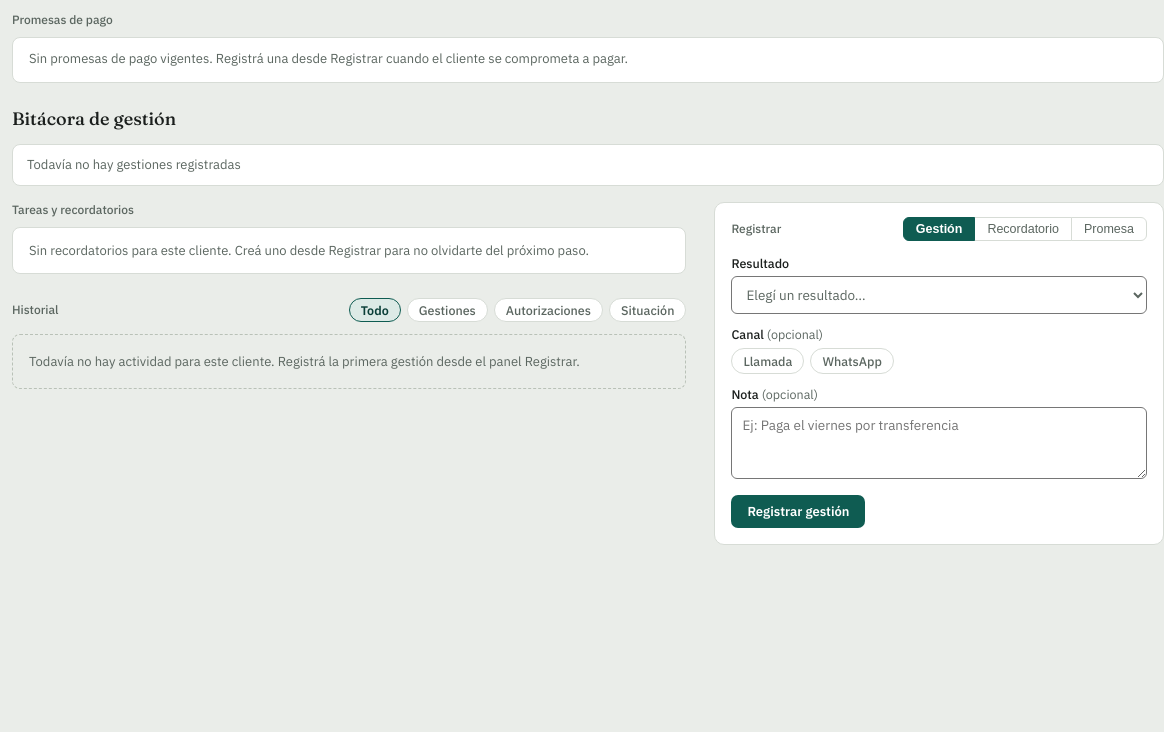
Promesas de pago en la pestaña Actividad › habilitada › registra la promesa, confirma con 'Promesa registrada.', limpia el formulario y actualiza el bloque y la bitácora
Click the button "Promesa" at point(1109, 228), box [1071,216,1147,240]
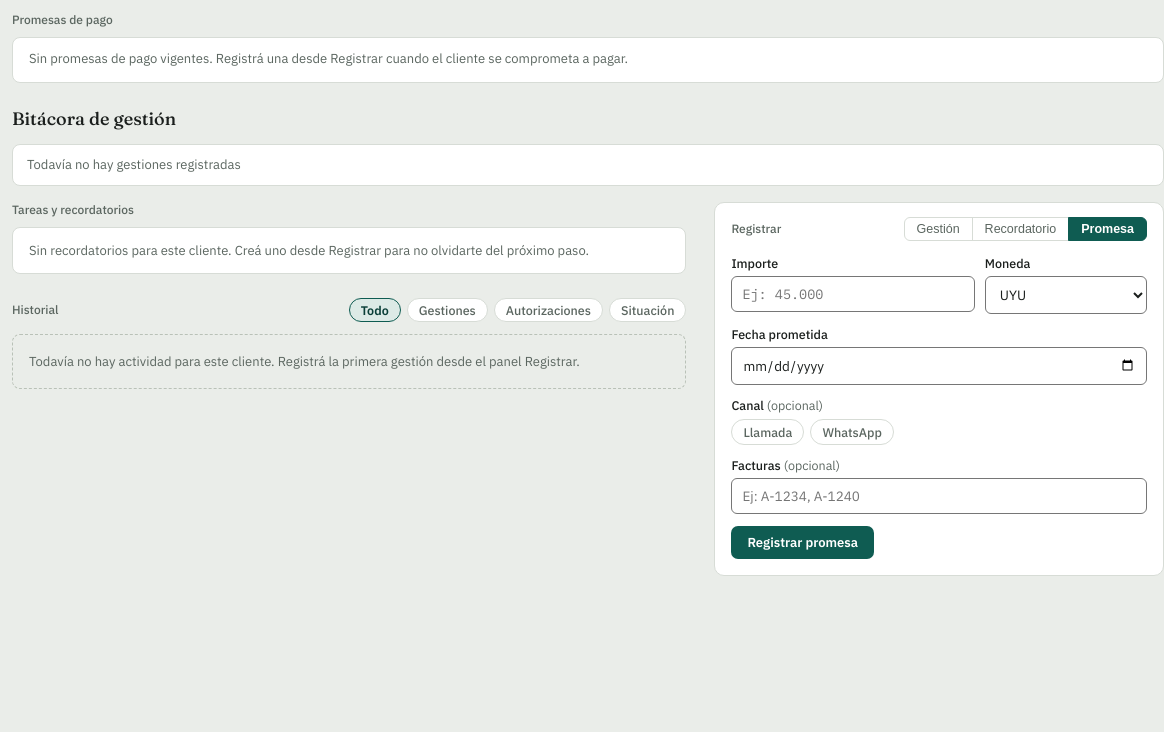
Type "2026-10-02" into the date field labelled "Fecha prometida" at point(939, 366), box [731,346,1147,384]
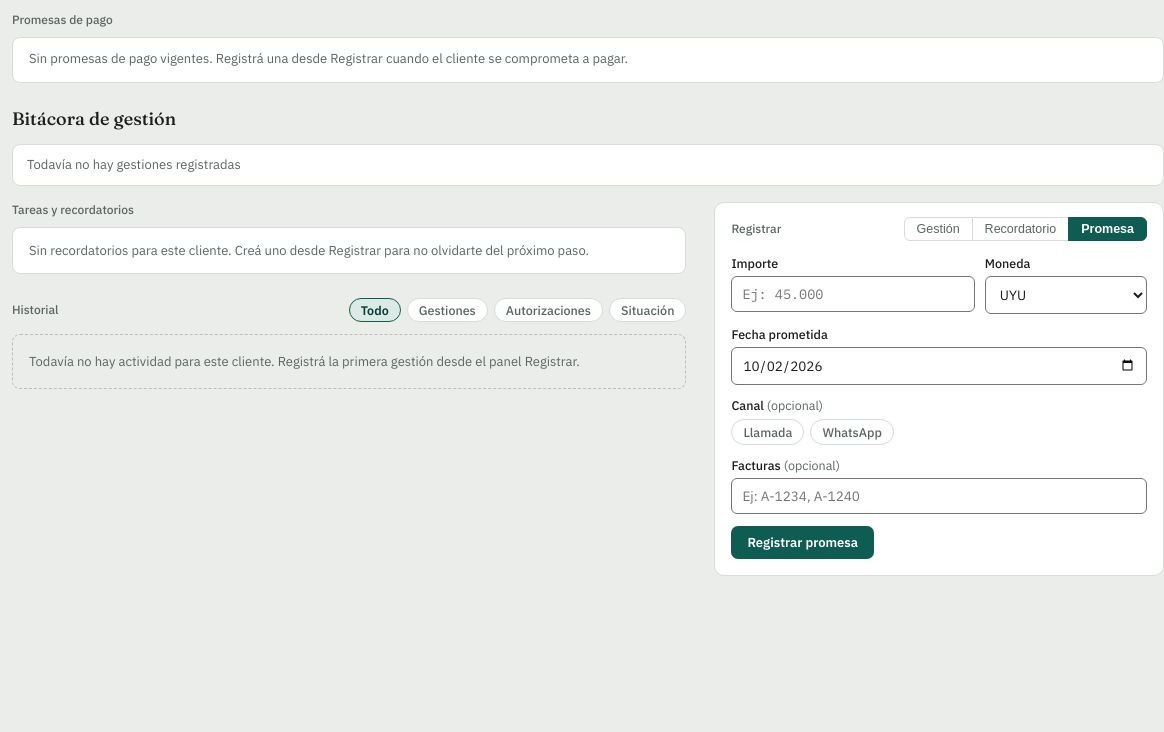
Type "45.000,50" into the field labelled "Importe" at point(853, 294), box [731,276,975,312]
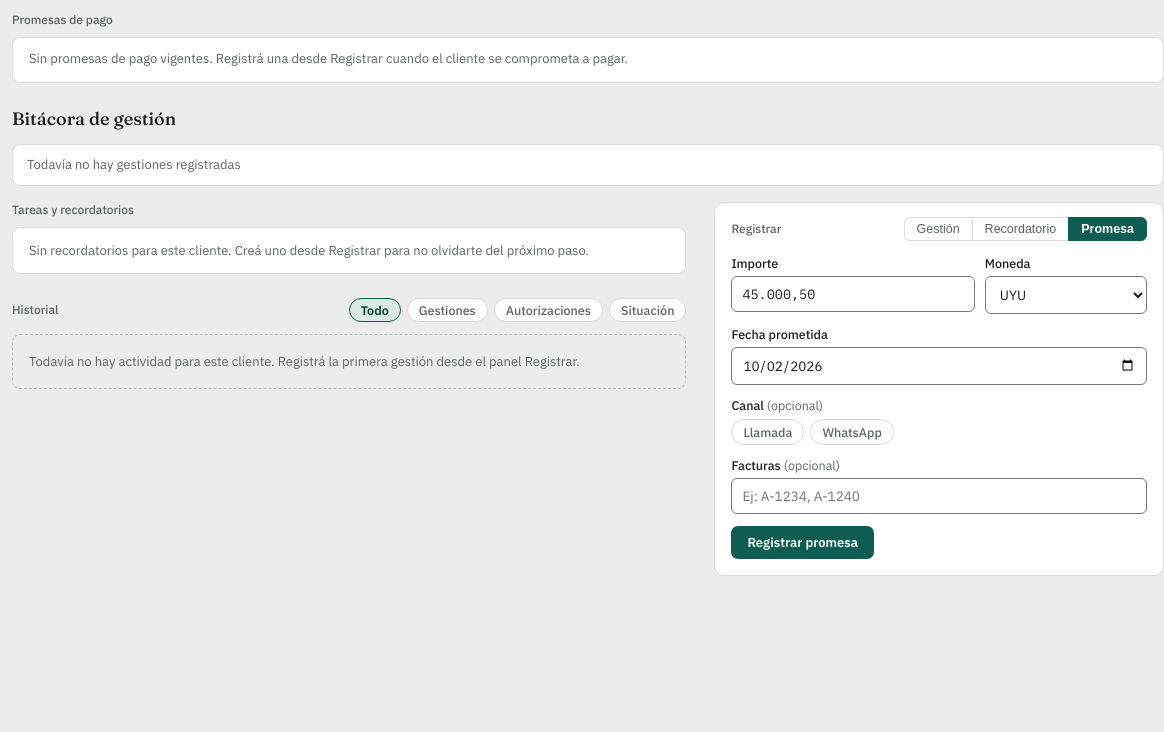
Click the radio button labelled "WhatsApp" at point(852, 432), box [810,418,894,444]
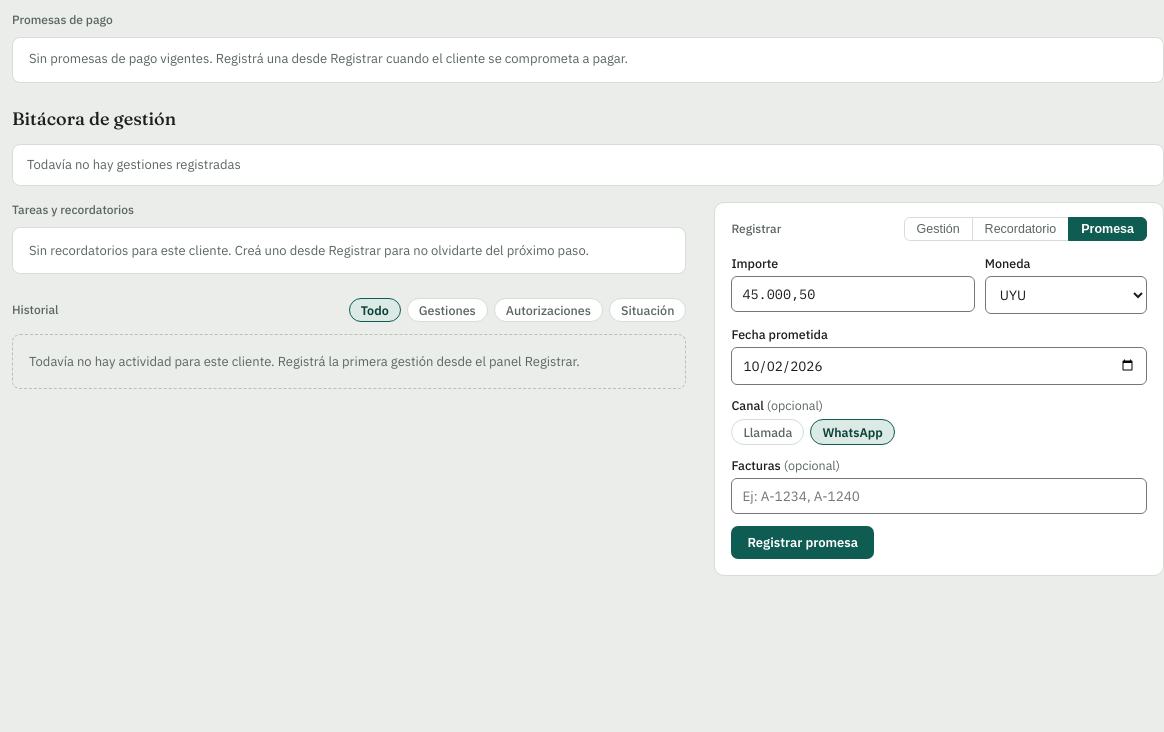
Type "A-1234" into the field labelled "Facturas (opcional)" at point(939, 496), box [731,478,1147,514]
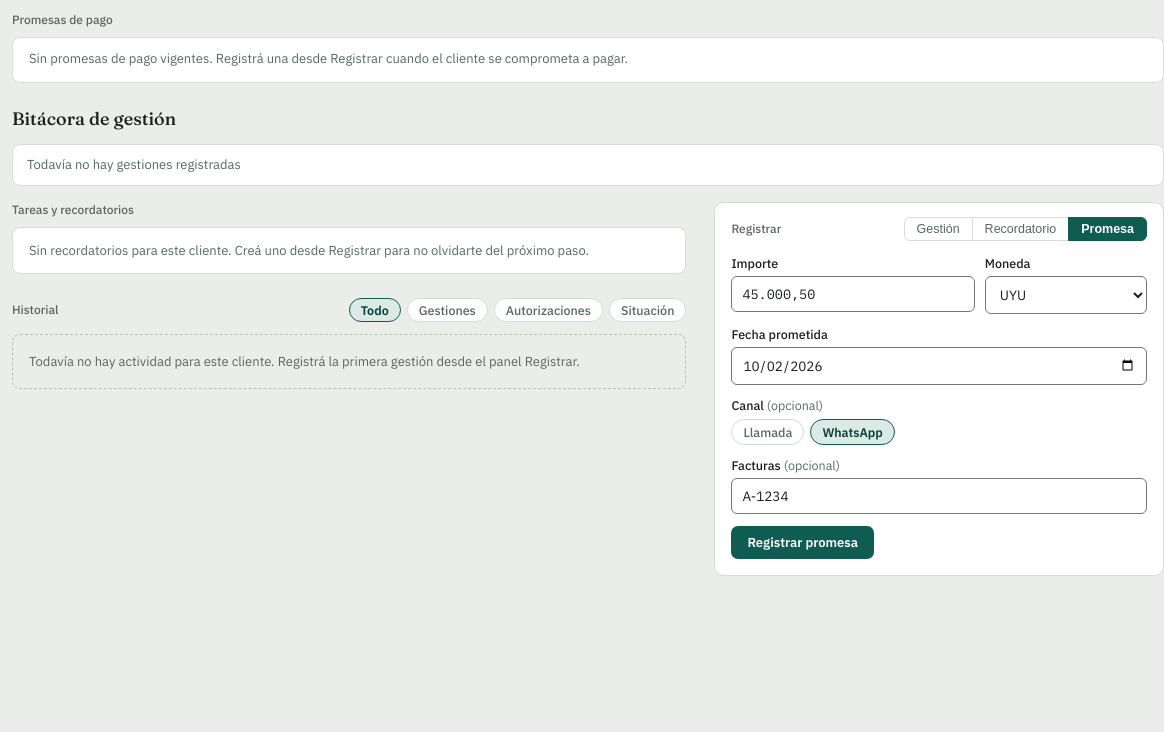
Click the button "Registrar promesa" at point(803, 542), box [731,526,874,558]
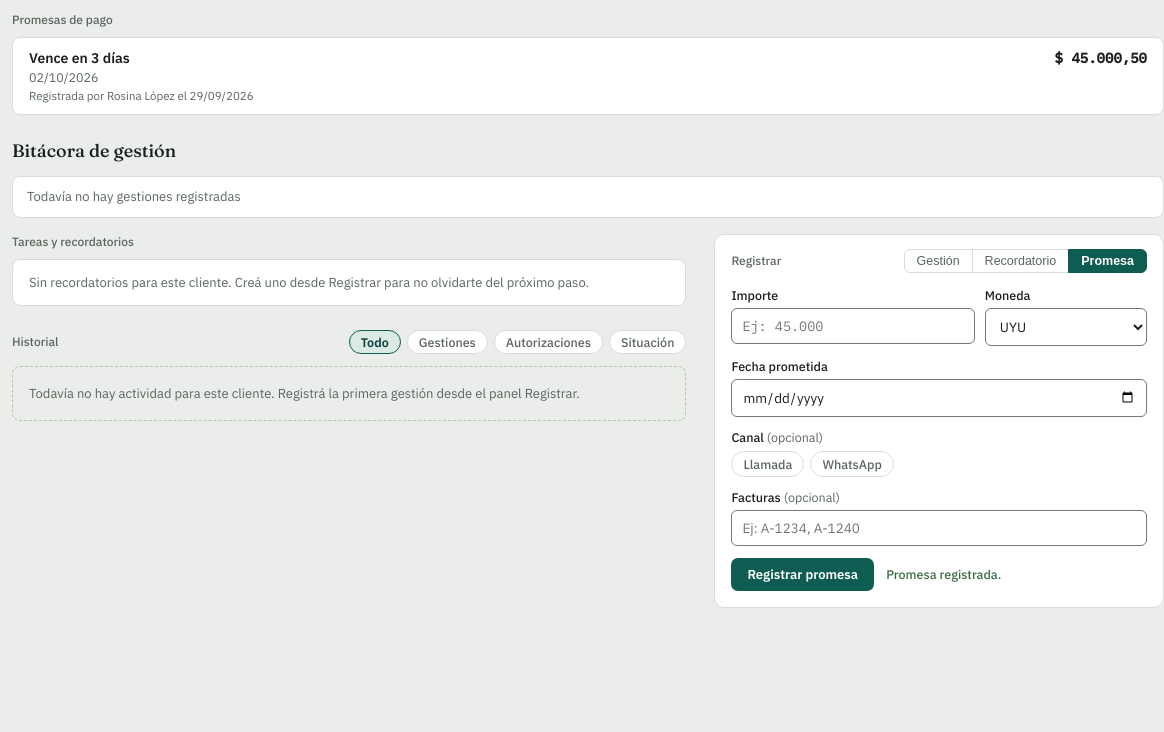
Result: the text "Promesa registrada." is shown at [886,566,1001,582]
Result: the field labelled "Importe" is empty at [731,308,975,344]
Result: the text "Vence en 3 días" is shown at [29,49,130,67]
